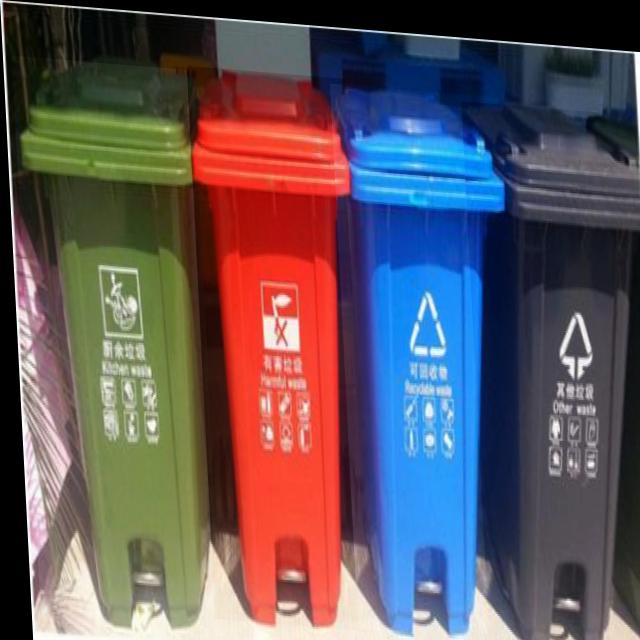garbage_bin: (11, 56, 220, 633), (330, 78, 520, 635), (186, 63, 367, 626), (461, 93, 640, 640)
